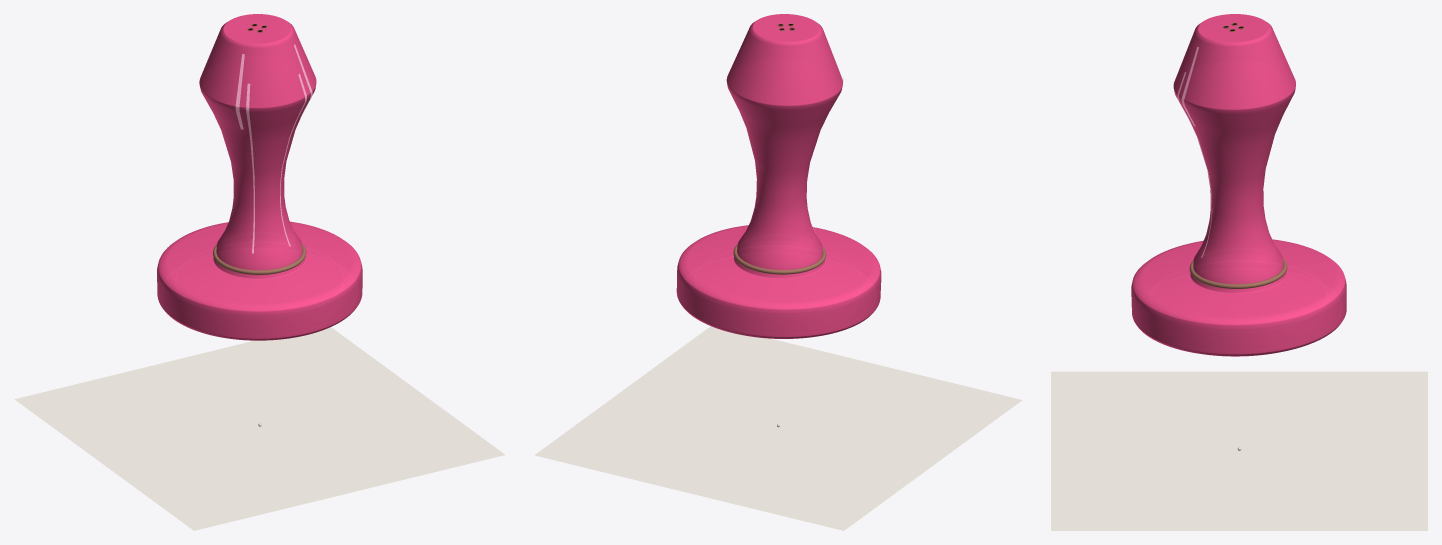
Rendered from stamp_scene_animated.glb.
3 views of the same model, side by side, from view 1: azimuth 30°, elevation 25°; view 2: azimuth 150°, elevation 25°; view 3: azimuth 270°, elevation 25° (orthographic). The views are drawn at different scales.
Parts seen in each view (by area): view 1: Paper, StampRoot_RevolvedFromGreenLine, StampNeck_RoseGoldRing; view 2: Paper, StampRoot_RevolvedFromGreenLine, StampNeck_RoseGoldRing; view 3: Paper, StampRoot_RevolvedFromGreenLine, StampNeck_RoseGoldRing.
Boxes of the visible parts, left/top/right/bottom form: Paper: left=14, top=327, right=505, bottom=530; StampRoot_RevolvedFromGreenLine: left=157, top=14, right=362, bottom=340; StampNeck_RoseGoldRing: left=213, top=243, right=306, bottom=274; Paper: left=534, top=326, right=1022, bottom=530; StampRoot_RevolvedFromGreenLine: left=676, top=14, right=881, bottom=338; StampNeck_RoseGoldRing: left=733, top=244, right=826, bottom=274; Paper: left=1051, top=371, right=1427, bottom=530; StampRoot_RevolvedFromGreenLine: left=1131, top=14, right=1346, bottom=356; StampNeck_RoseGoldRing: left=1189, top=258, right=1287, bottom=288.
Bounding box in the file's own units: 5.42 × 6.7 × 5.42.
